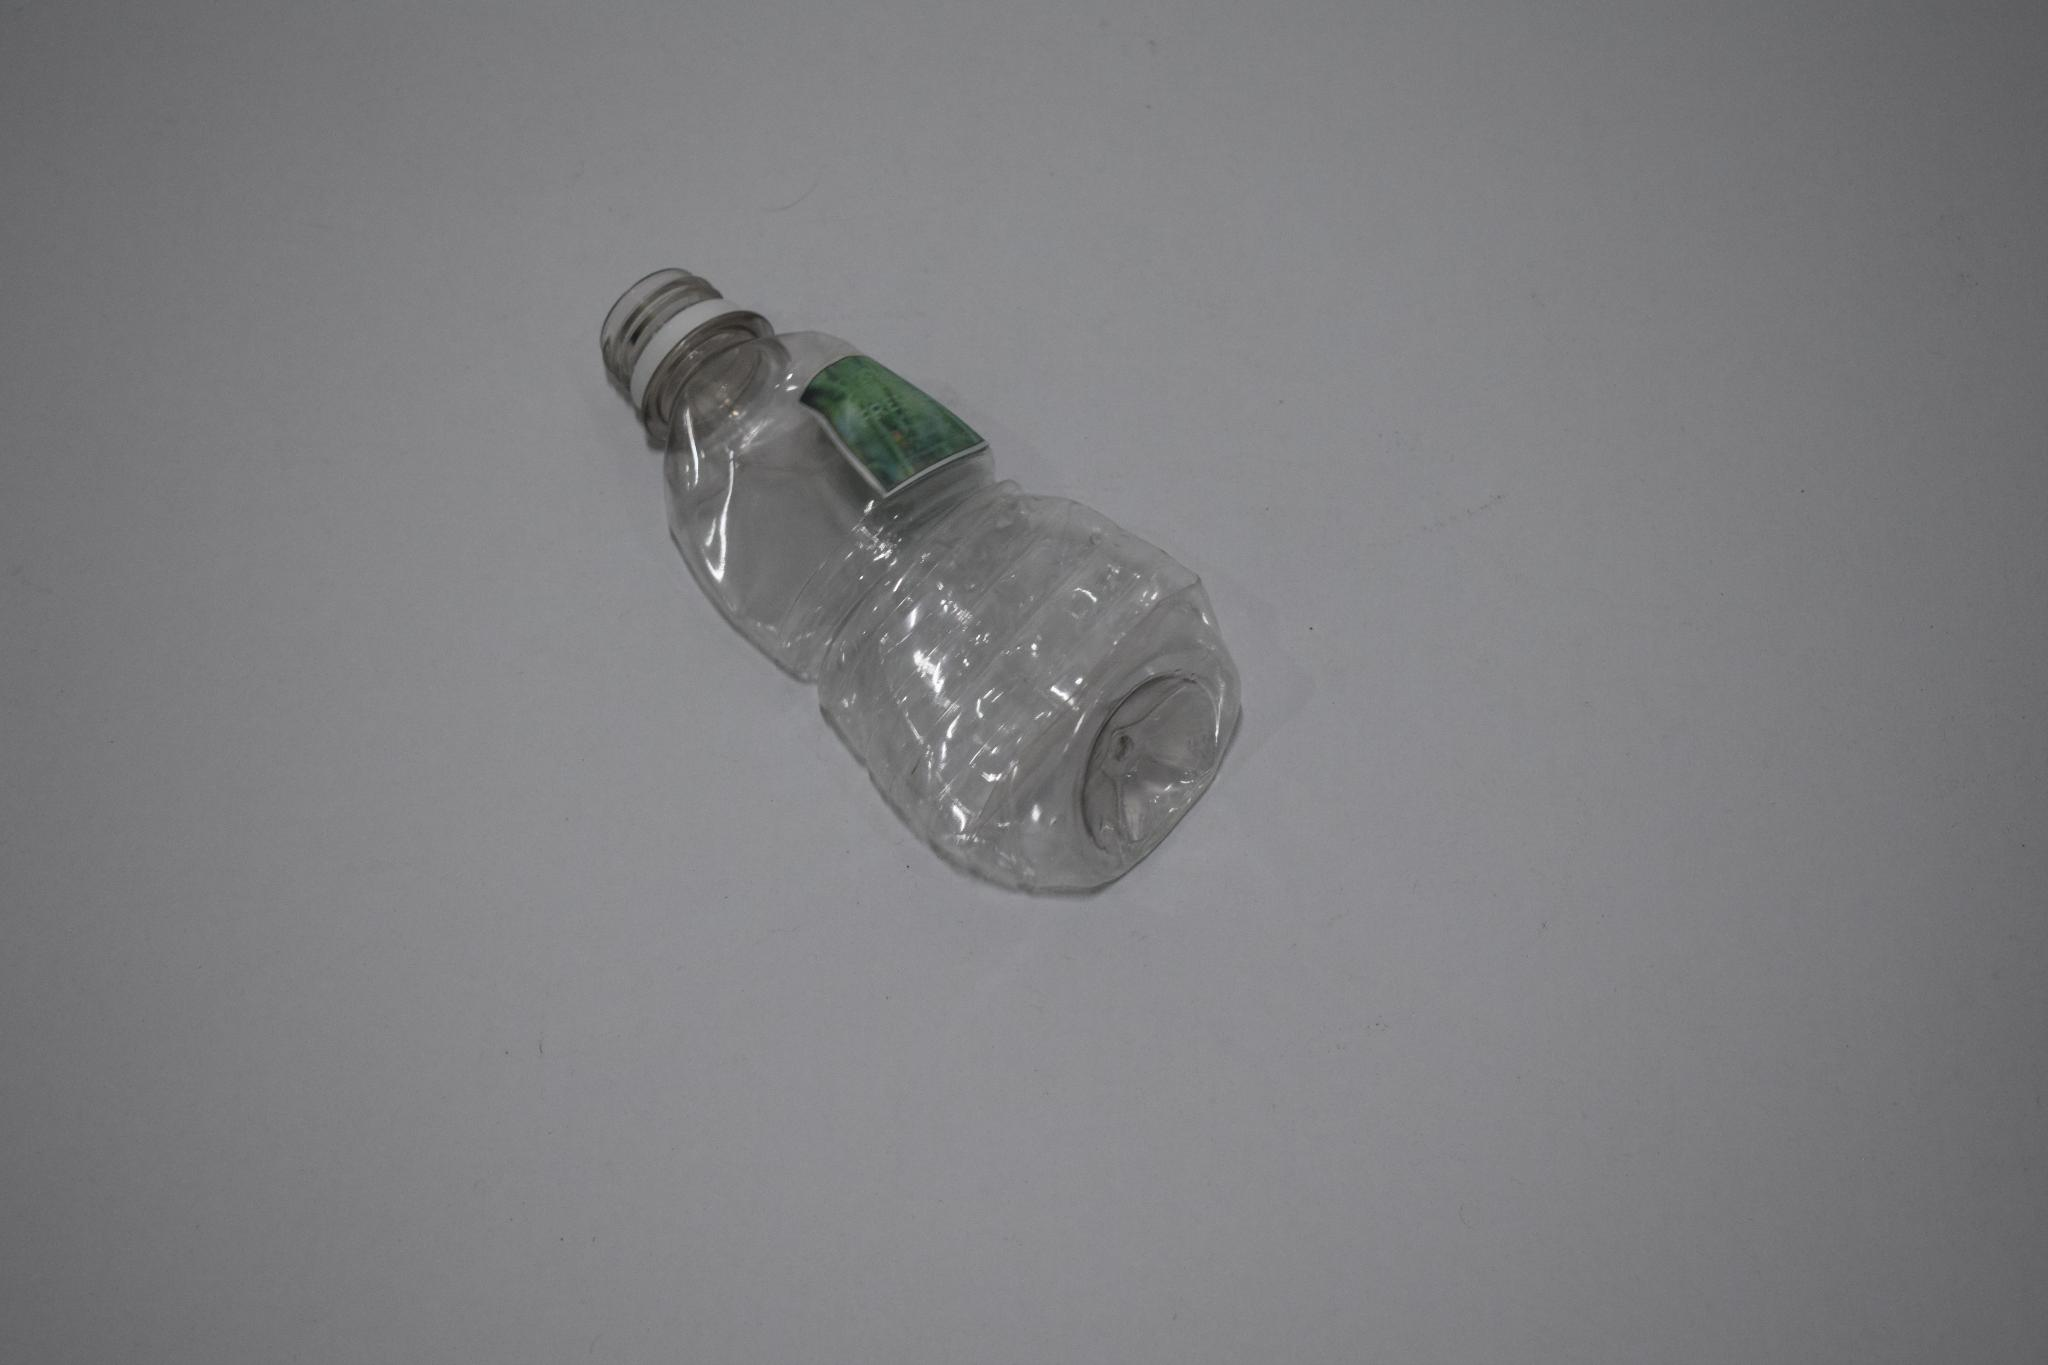bottle: (577, 262, 1235, 903)
